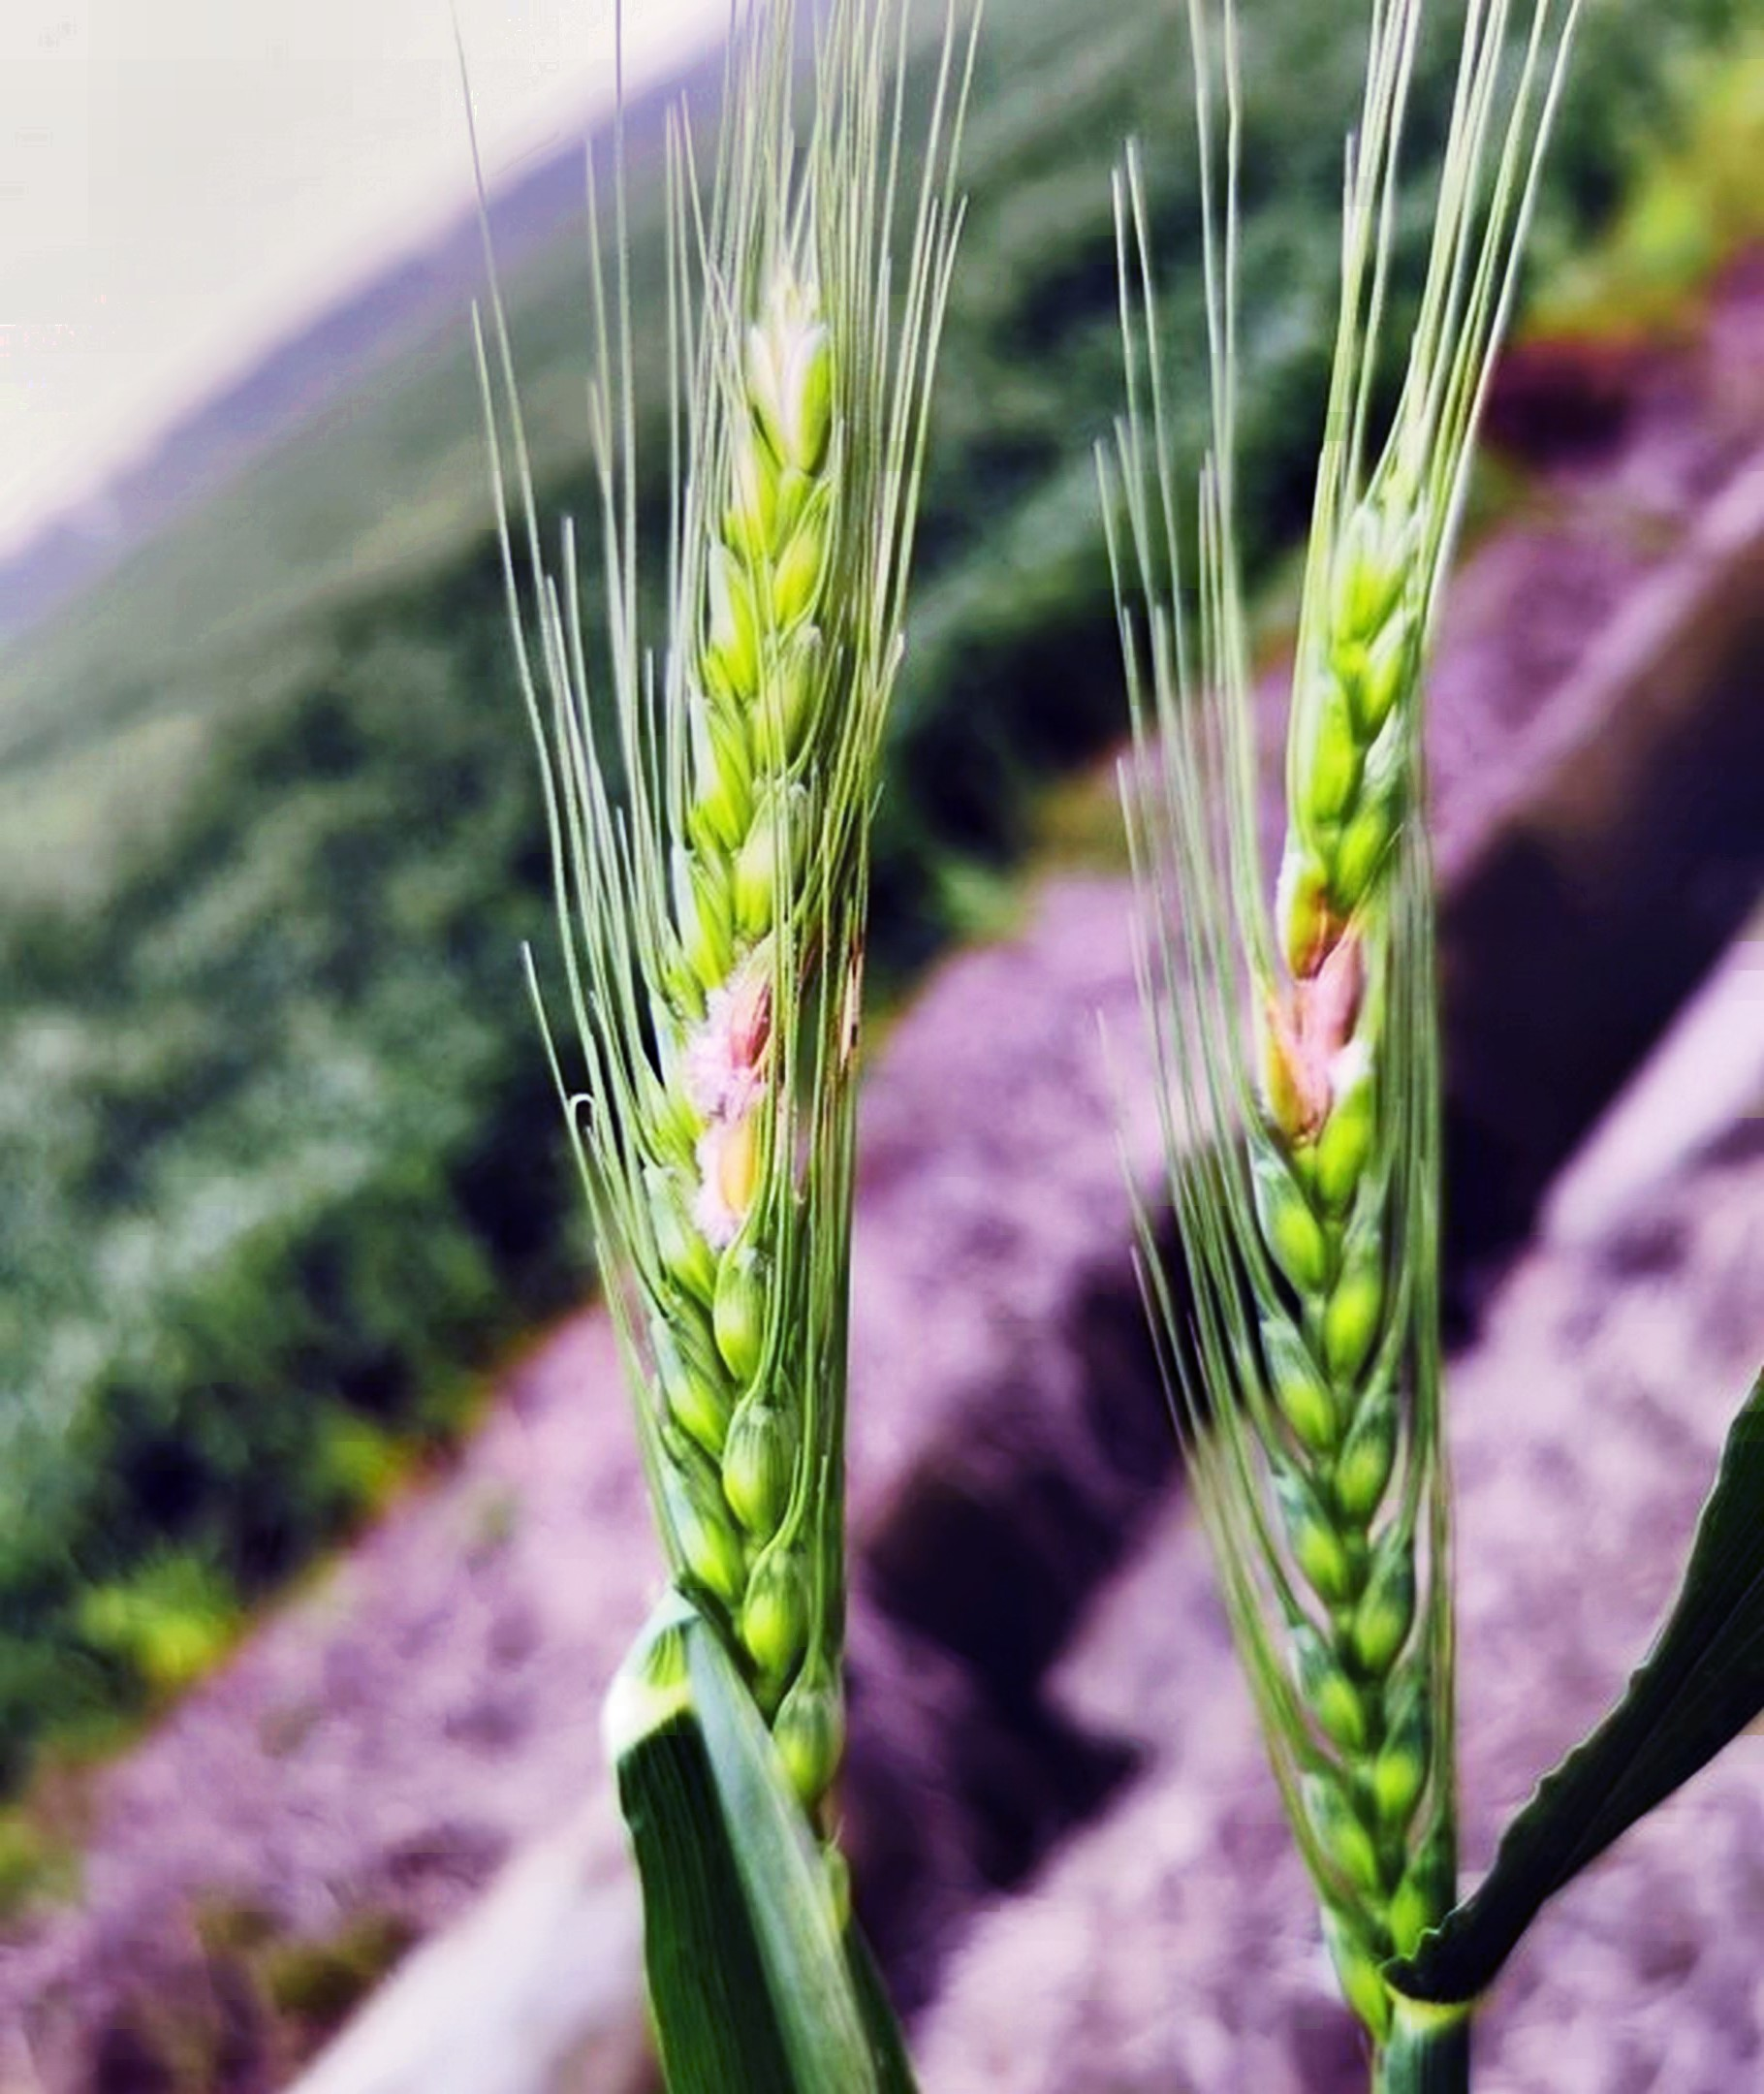Wheat scab: (1127, 452, 1510, 2059), (520, 256, 943, 1665)
